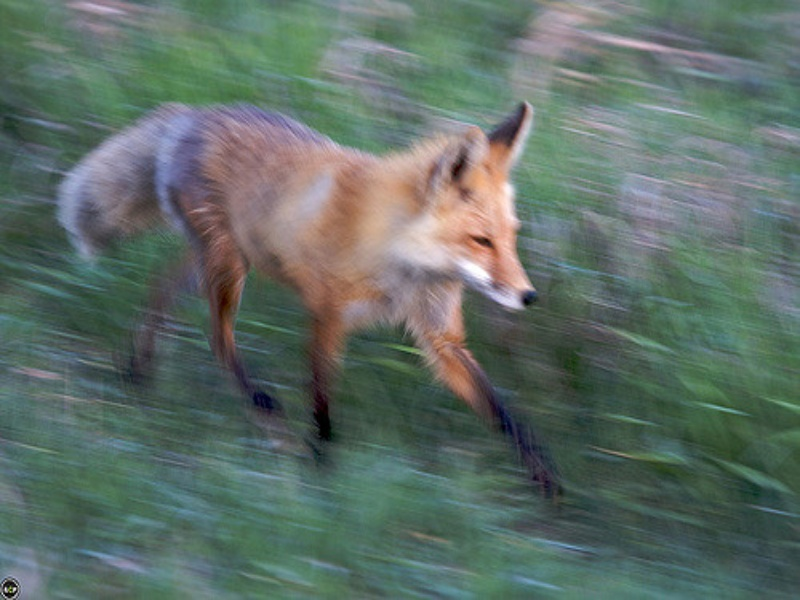fox: (56, 89, 581, 503)
